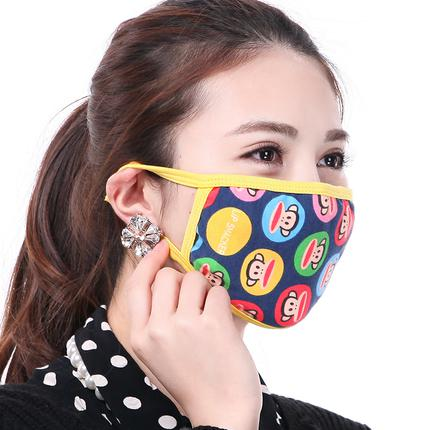OK: (156, 115, 364, 323)
